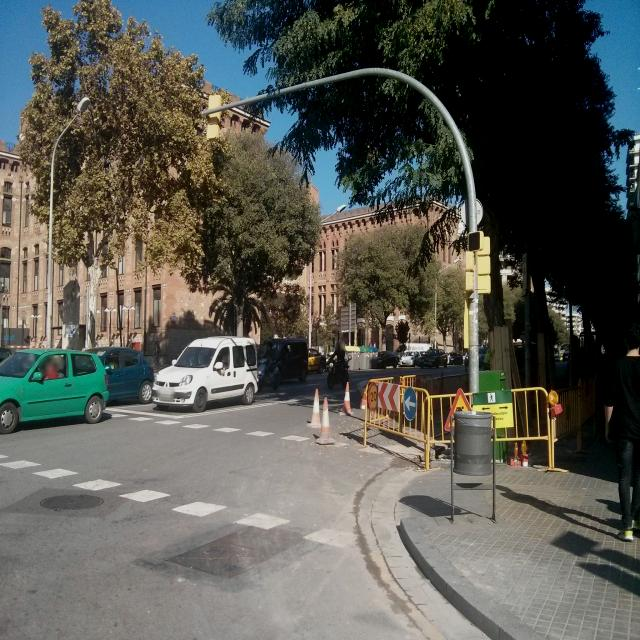car: (0, 346, 109, 434), (151, 335, 259, 413), (82, 346, 157, 404), (256, 336, 308, 390), (413, 348, 449, 368), (370, 350, 400, 369), (308, 346, 328, 373), (400, 349, 422, 365)
